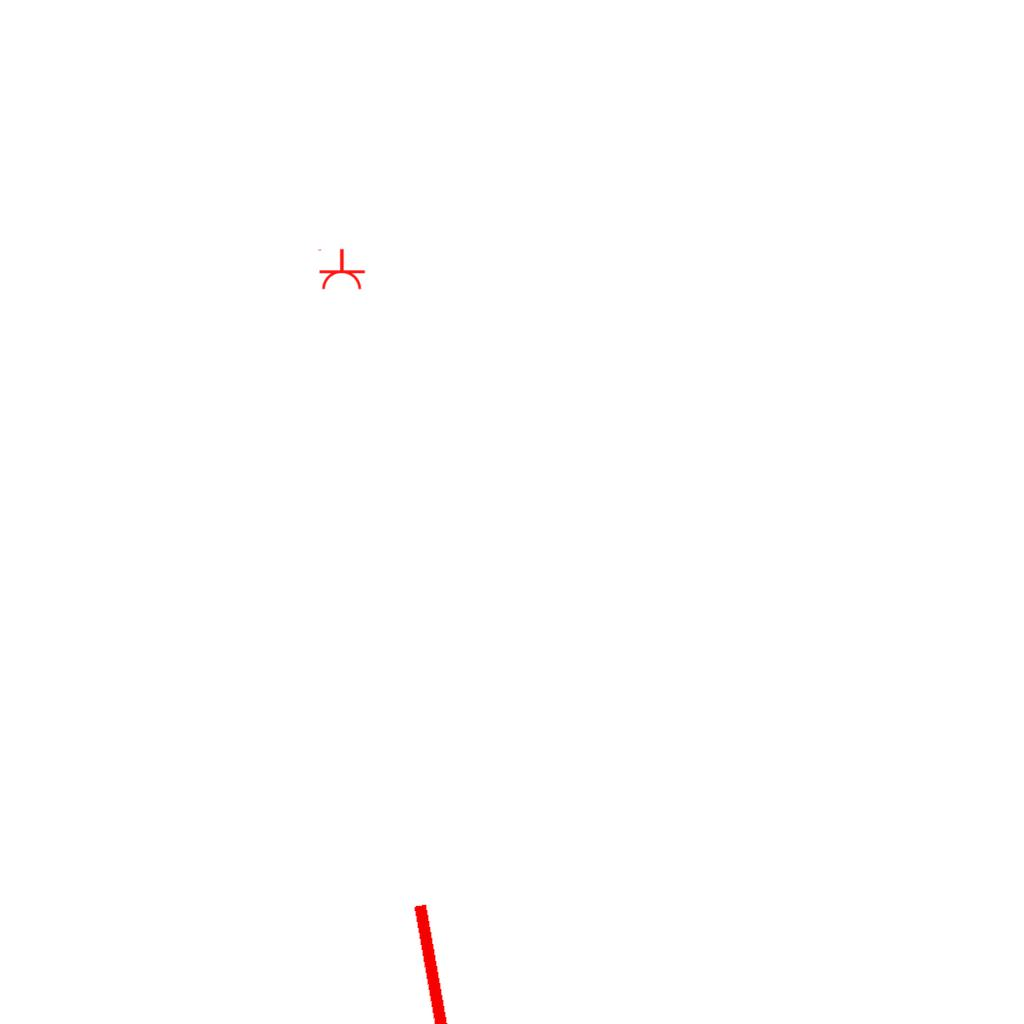ASR_Ansaugoeffnung: (394, 896, 470, 1024)
Schukosteckdose_einfach: (316, 248, 366, 291)
